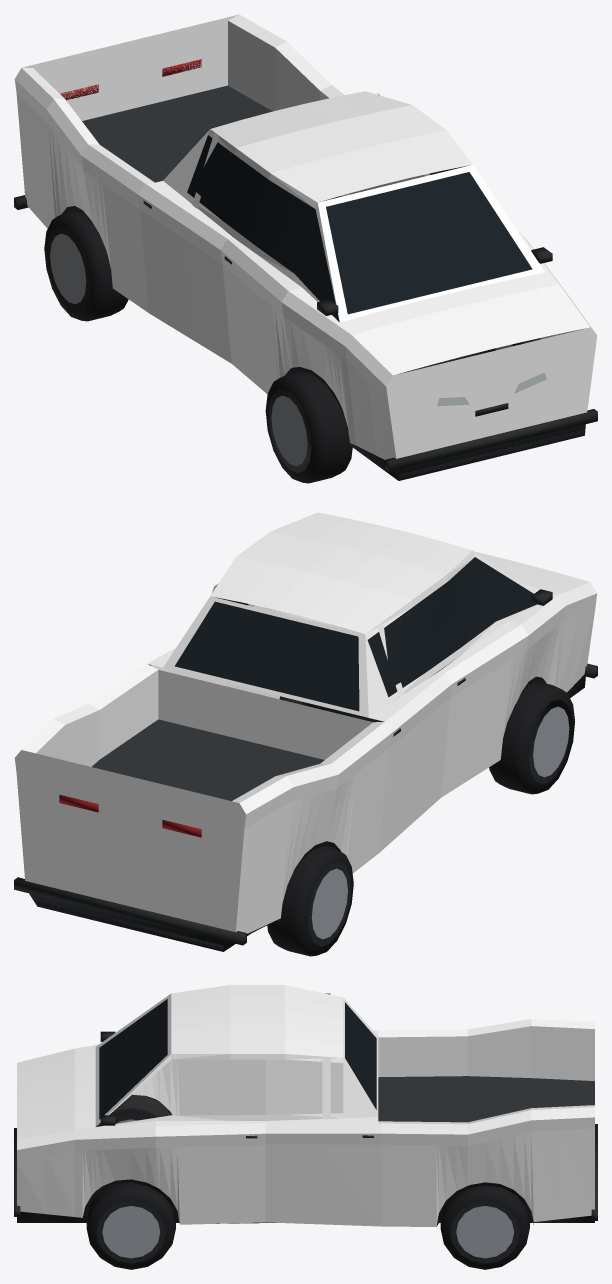
File: ridgeway_estiva.glb
3 views of the same model, one above another, from view 1: azimuth 30°, elevation 25°; view 2: azimuth 150°, elevation 25°; view 3: azimuth 270°, elevation 25° (orthographic). The views are drawn at different scales.
Parts seen in each view (by area): view 1: Body_Paint, Body_Details, Mount_FrontLeft_Wheel_Details, Mount_RearLeft_Wheel_Details; view 2: Body_Paint, Body_Details, Mount_FrontLeft_Wheel_Details, Mount_RearLeft_Wheel_Details; view 3: Body_Paint, Body_Details, Mount_FrontRight_Wheel_Details, Mount_RearRight_Wheel_Details, Mount_FrontLeft_Wheel_Details.
Part boxes in pixels (x1,y1,x2,y2): Body_Paint: (14, 14, 597, 459); Body_Details: (14, 59, 597, 480); Mount_FrontLeft_Wheel_Details: (265, 371, 352, 483); Mount_RearLeft_Wheel_Details: (44, 210, 128, 321); Body_Paint: (14, 512, 597, 933); Body_Details: (14, 557, 597, 951); Mount_FrontLeft_Wheel_Details: (489, 681, 574, 794); Mount_RearLeft_Wheel_Details: (267, 845, 353, 956); Body_Paint: (17, 985, 594, 1226); Body_Details: (14, 999, 597, 1226); Mount_FrontRight_Wheel_Details: (86, 1182, 175, 1269); Mount_RearRight_Wheel_Details: (440, 1185, 529, 1269); Mount_FrontLeft_Wheel_Details: (96, 1108, 157, 1126).
Size of the model in its own units: 2.14 by 1.99 by 5.16.
2 materials, 1 textured.
